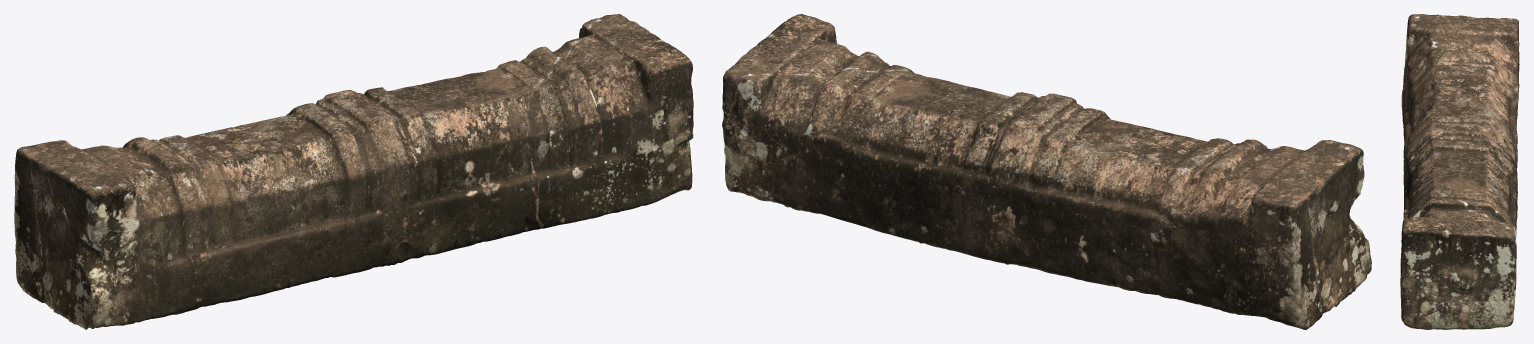
The model's file is 31_MysonSanctuaryD_Tru_final.glb.
3 views of the same model, side by side, from view 1: azimuth 30°, elevation 25°; view 2: azimuth 150°, elevation 25°; view 3: azimuth 270°, elevation 25° (orthographic). The views are drawn at different scales.
Bounding box in the file's own units: 1.91 × 0.4318 × 0.4433.
1 material, 1 textured.
